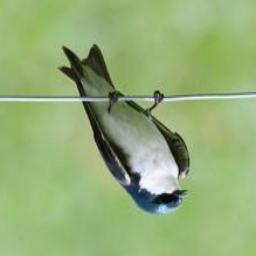Swallow: (56, 44, 191, 216)
